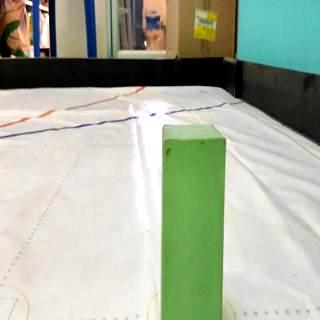greenbox: (160, 122, 228, 320)
